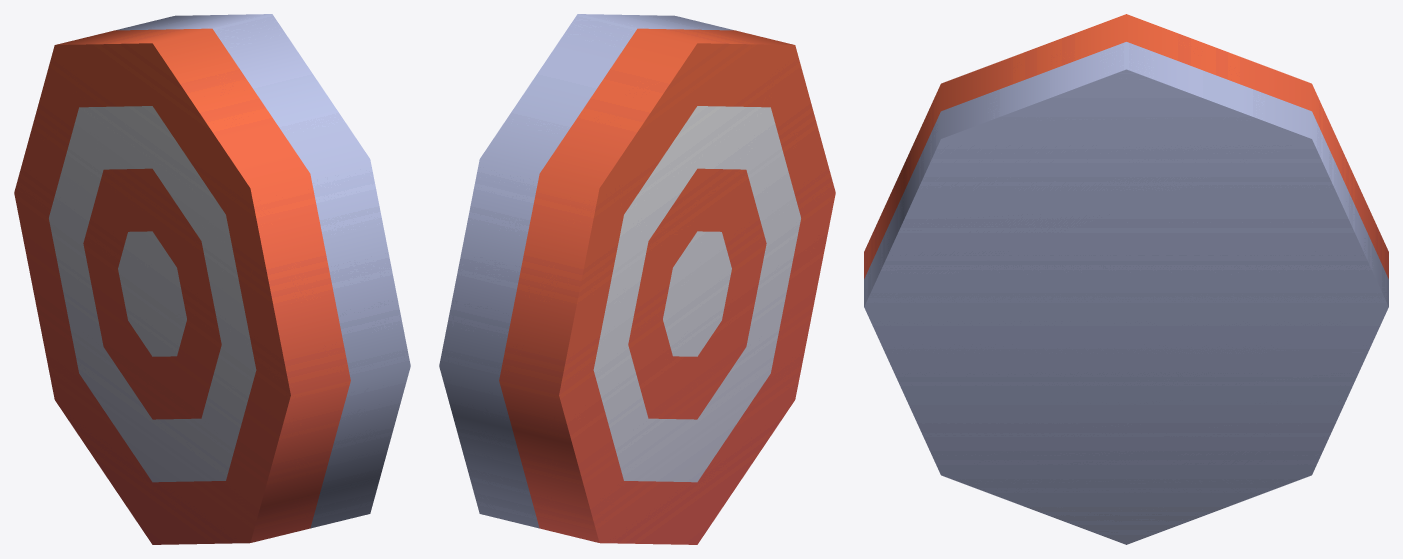
The model's file is target-b-round.glb.
3 renders of one model, left to right at view 1: azimuth 30°, elevation 25°; view 2: azimuth 150°, elevation 25°; view 3: azimuth 270°, elevation 25°, orthographic. The views are drawn at different scales.
Visible parts, largest first — view 1: target-b-round; view 2: target-b-round; view 3: target-b-round.
Boxes of the visible parts, x1,y1,x2,y2 form: target-b-round: (14, 14, 410, 544); target-b-round: (439, 14, 835, 544); target-b-round: (864, 14, 1388, 544).
Bounding box in the file's own units: 0.124 × 0.496 × 0.496.
Materials: 1 (1 with a texture image).
